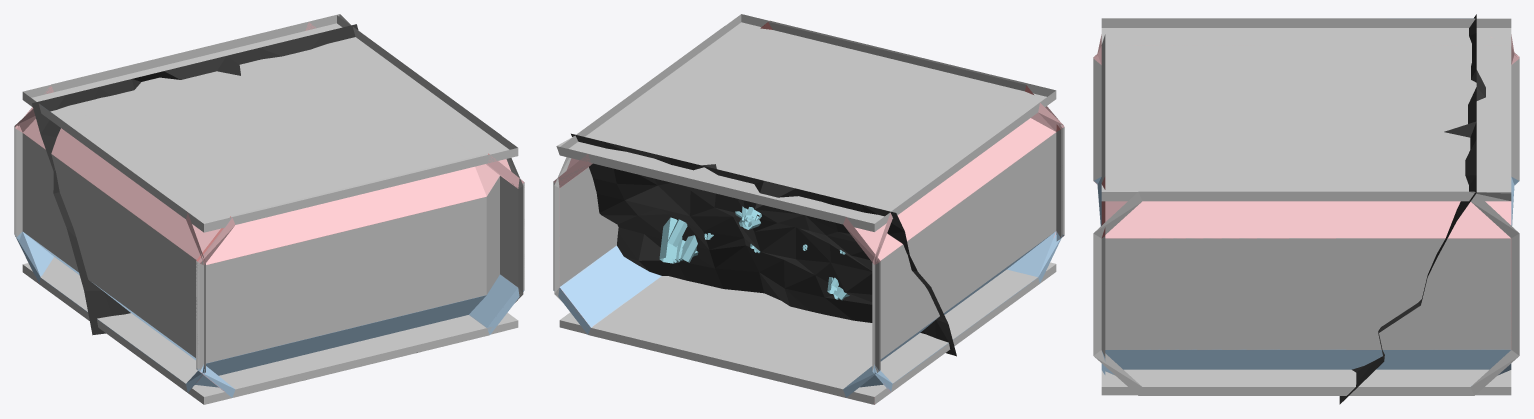
Rendered from world_parts.dae.
3 views of the same model, side by side, from view 1: azimuth 30°, elevation 25°; view 2: azimuth 150°, elevation 25°; view 3: azimuth 270°, elevation 25° (orthographic). The views are drawn at different scales.
Parts seen in each view (by area): view 1: Corner, Hallway, EmptyRoom, Mine, RoomEntry, RoomWall, X-Crossing; view 2: Corner, Hallway, Mine, EmptyRoom, RoomEntry, X-Crossing, RoomCorner, RoomWall; view 3: Corner, Hallway, EmptyRoom, RoomEntry, X-Crossing, Mine, RoomWall.
Part boxes in pixels (left/top/right/bottom): Corner: left=16, top=21, right=499, bottom=392; Hallway: left=16, top=31, right=524, bottom=397; EmptyRoom: left=22, top=15, right=518, bottom=402; Mine: left=32, top=24, right=489, bottom=389; RoomEntry: left=14, top=14, right=518, bottom=397; RoomWall: left=22, top=77, right=524, bottom=404; X-Crossing: left=353, top=27, right=524, bottom=302; Corner: left=553, top=43, right=1055, bottom=397; Hallway: left=559, top=20, right=1062, bottom=388; Mine: left=571, top=22, right=1060, bottom=356; EmptyRoom: left=559, top=14, right=1056, bottom=402; RoomEntry: left=556, top=15, right=1064, bottom=397; X-Crossing: left=553, top=26, right=724, bottom=324; RoomCorner: left=811, top=198, right=910, bottom=404; RoomWall: left=812, top=76, right=1056, bottom=401; Corner: left=1093, top=18, right=1519, bottom=369; Hallway: left=1105, top=45, right=1511, bottom=369; EmptyRoom: left=1101, top=18, right=1511, bottom=392; RoomEntry: left=1093, top=34, right=1519, bottom=395; X-Crossing: left=1093, top=191, right=1519, bottom=395; Mine: left=1101, top=14, right=1485, bottom=404; RoomWall: left=1102, top=18, right=1511, bottom=369.
Bounding box in the file's own units: 10.47 × 10.4 × 5.75.
Materials: 9 (9 with a texture image).
